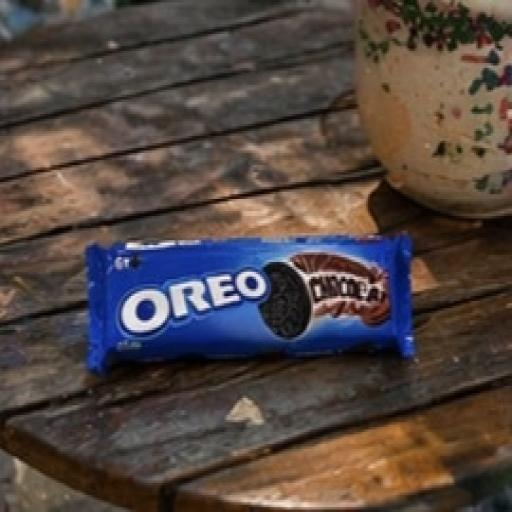oreo: (43, 170, 472, 436)
